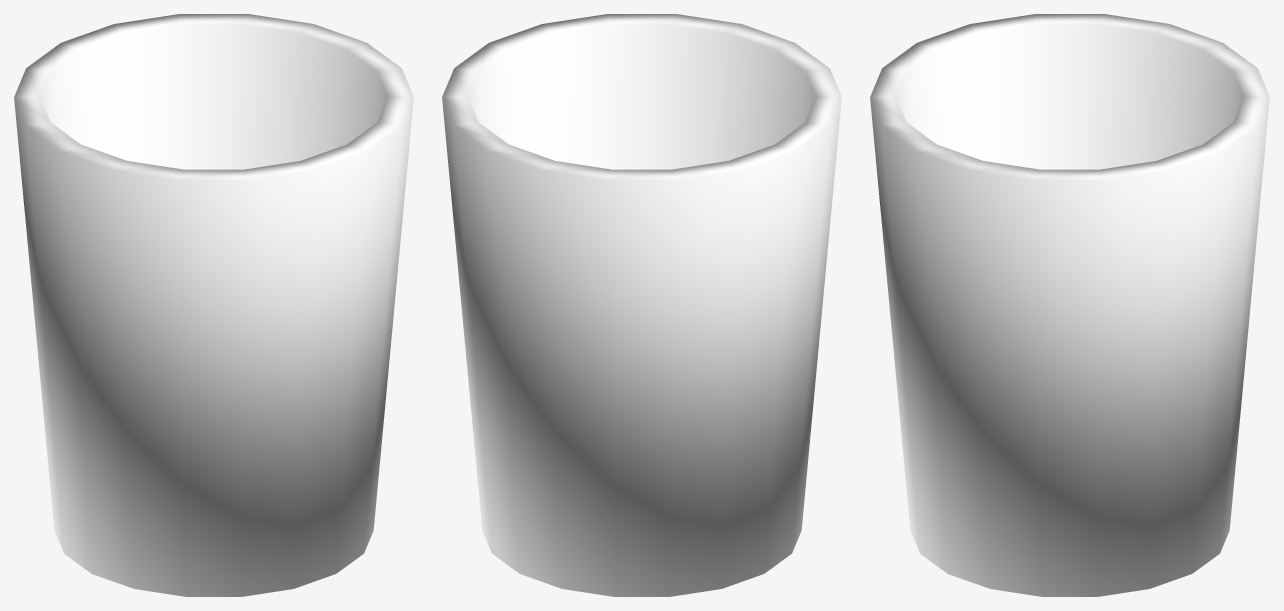
The model's file is gelas.fbx.
3 views of the same model, side by side, from view 1: azimuth 30°, elevation 25°; view 2: azimuth 150°, elevation 25°; view 3: azimuth 270°, elevation 25° (orthographic).
Parts seen in each view (by area): view 1: gelas; view 2: gelas; view 3: gelas.
Part boxes in pixels (left/top/right/bottom): gelas: left=14, top=14, right=413, bottom=596; gelas: left=442, top=14, right=841, bottom=596; gelas: left=870, top=14, right=1269, bottom=596.
Size of the model in its own units: 60.72 by 73.72 by 61.66.
